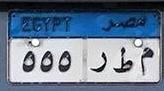5: (18, 50, 37, 74), (55, 48, 72, 74), (38, 49, 54, 75)
Taa: (111, 45, 135, 77)
meem: (138, 45, 154, 80)
raa: (88, 50, 108, 73)
